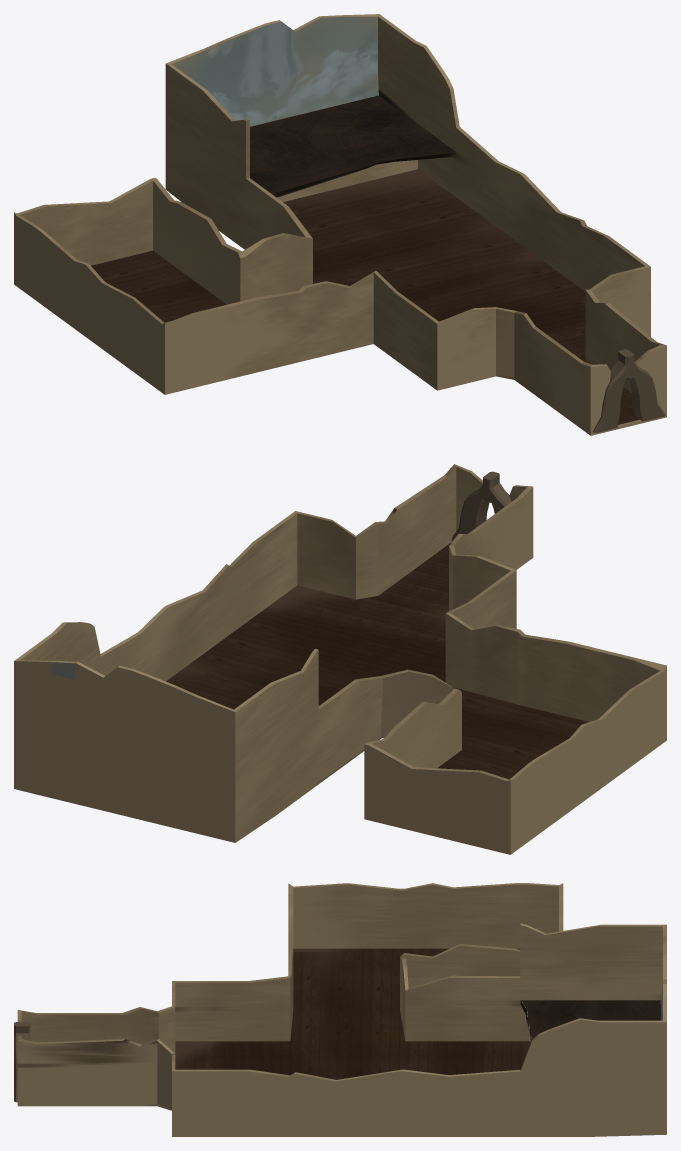
The model's file is church.fbx.
3 renders of one model, top to bottom at view 1: azimuth 30°, elevation 25°; view 2: azimuth 150°, elevation 25°; view 3: azimuth 270°, elevation 25°, orthographic. The views are drawn at different scales.
Parts seen in each view (by area): view 1: Church_base:pCube3; view 2: Church_base:pCube3; view 3: Church_base:pCube3.
Boxes of the visible parts, x1,y1,x2,y2 form: Church_base:pCube3: [14, 14, 666, 435]; Church_base:pCube3: [14, 464, 666, 854]; Church_base:pCube3: [14, 883, 666, 1136].
Bounding box in the file's own units: 102 × 33.12 × 149.
Materials: 1 (1 with a texture image).
